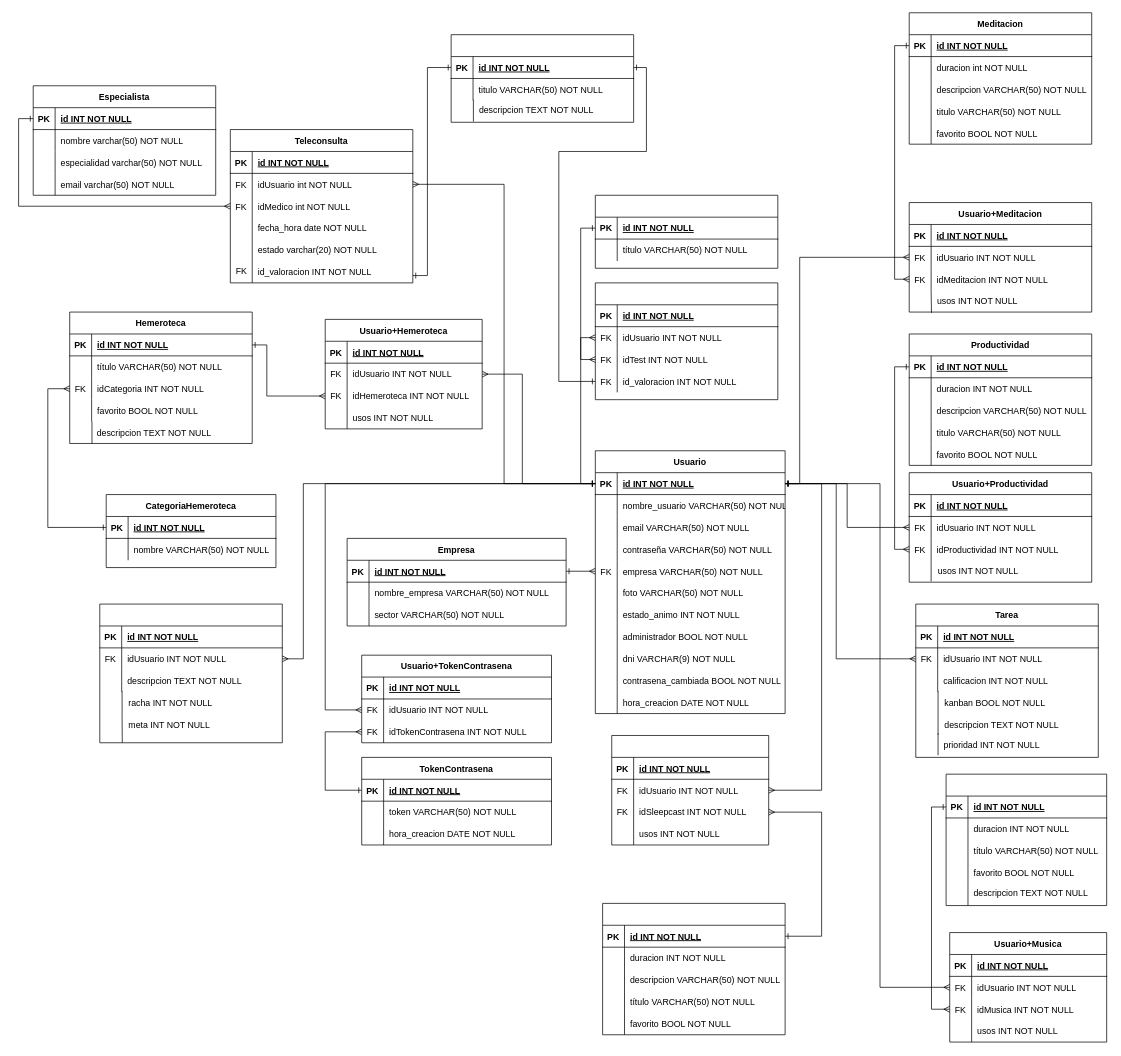
This 1121x1056 diagram has some shape labels left out. Each missing label, with the box of its shape:
Habito: (99, 603, 282, 743)
Música: (945, 773, 1107, 906)
Sleepcast: (602, 903, 785, 1035)
Test: (595, 195, 778, 268)
Usuario+Sleepcast: (611, 735, 769, 845)
Usuario+Test: (595, 282, 778, 400)
Valoración: (450, 34, 634, 122)
